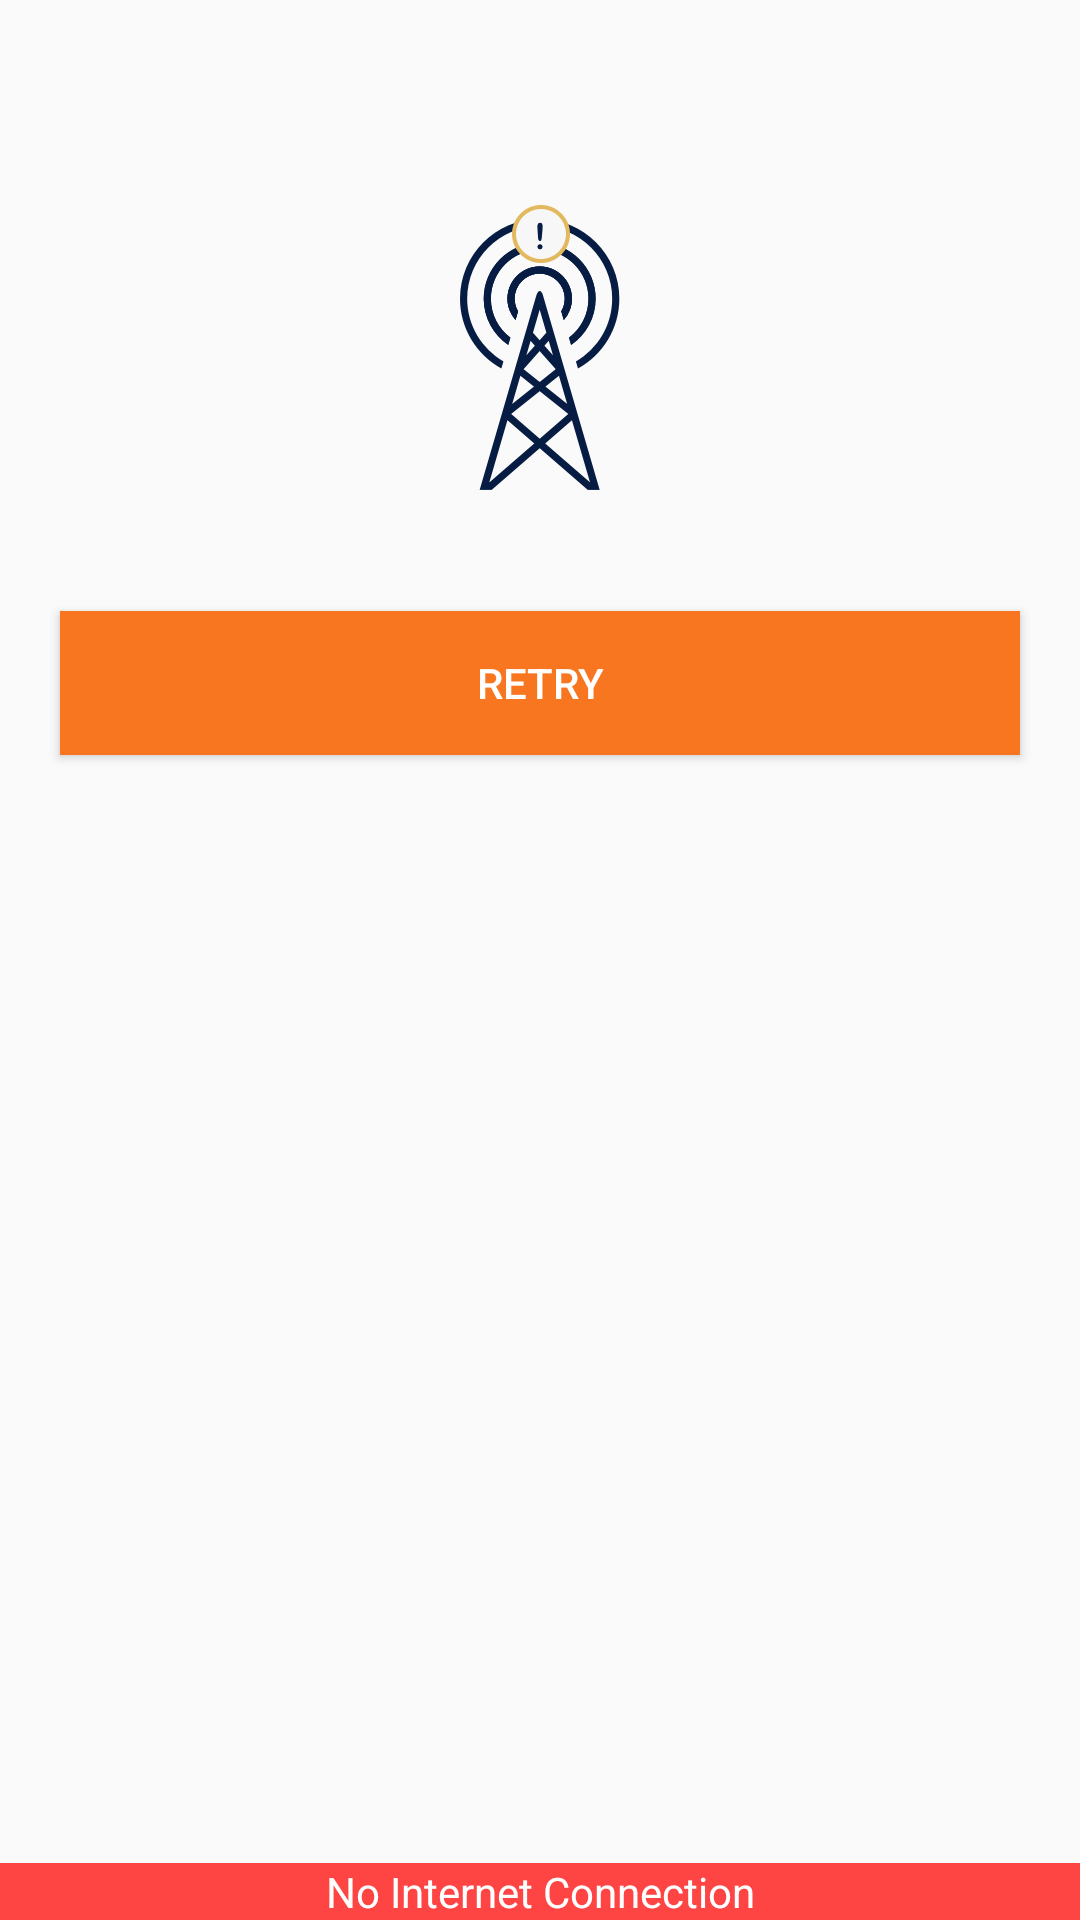

Point at icon controls on the screen. Image size 1080*1920, points as (x,y).
no internet: (540,347)
